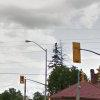Tree: (45, 50, 78, 93)
